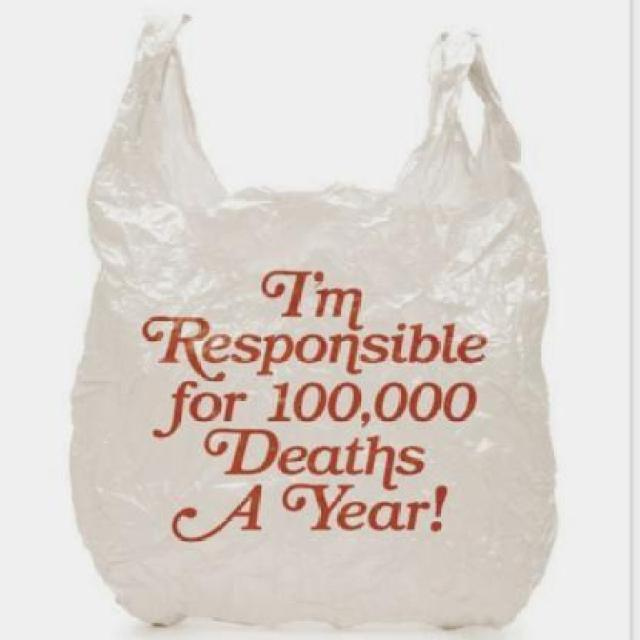plastic bag: (35, 12, 591, 632)
